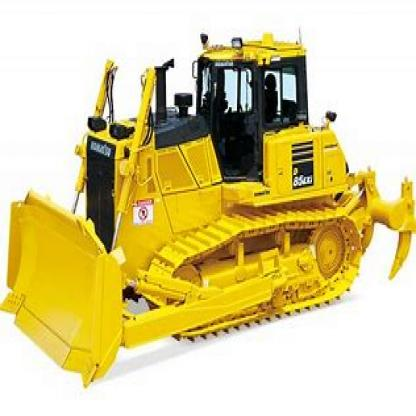bull_dozer/loader/grader: (12, 27, 415, 382)
